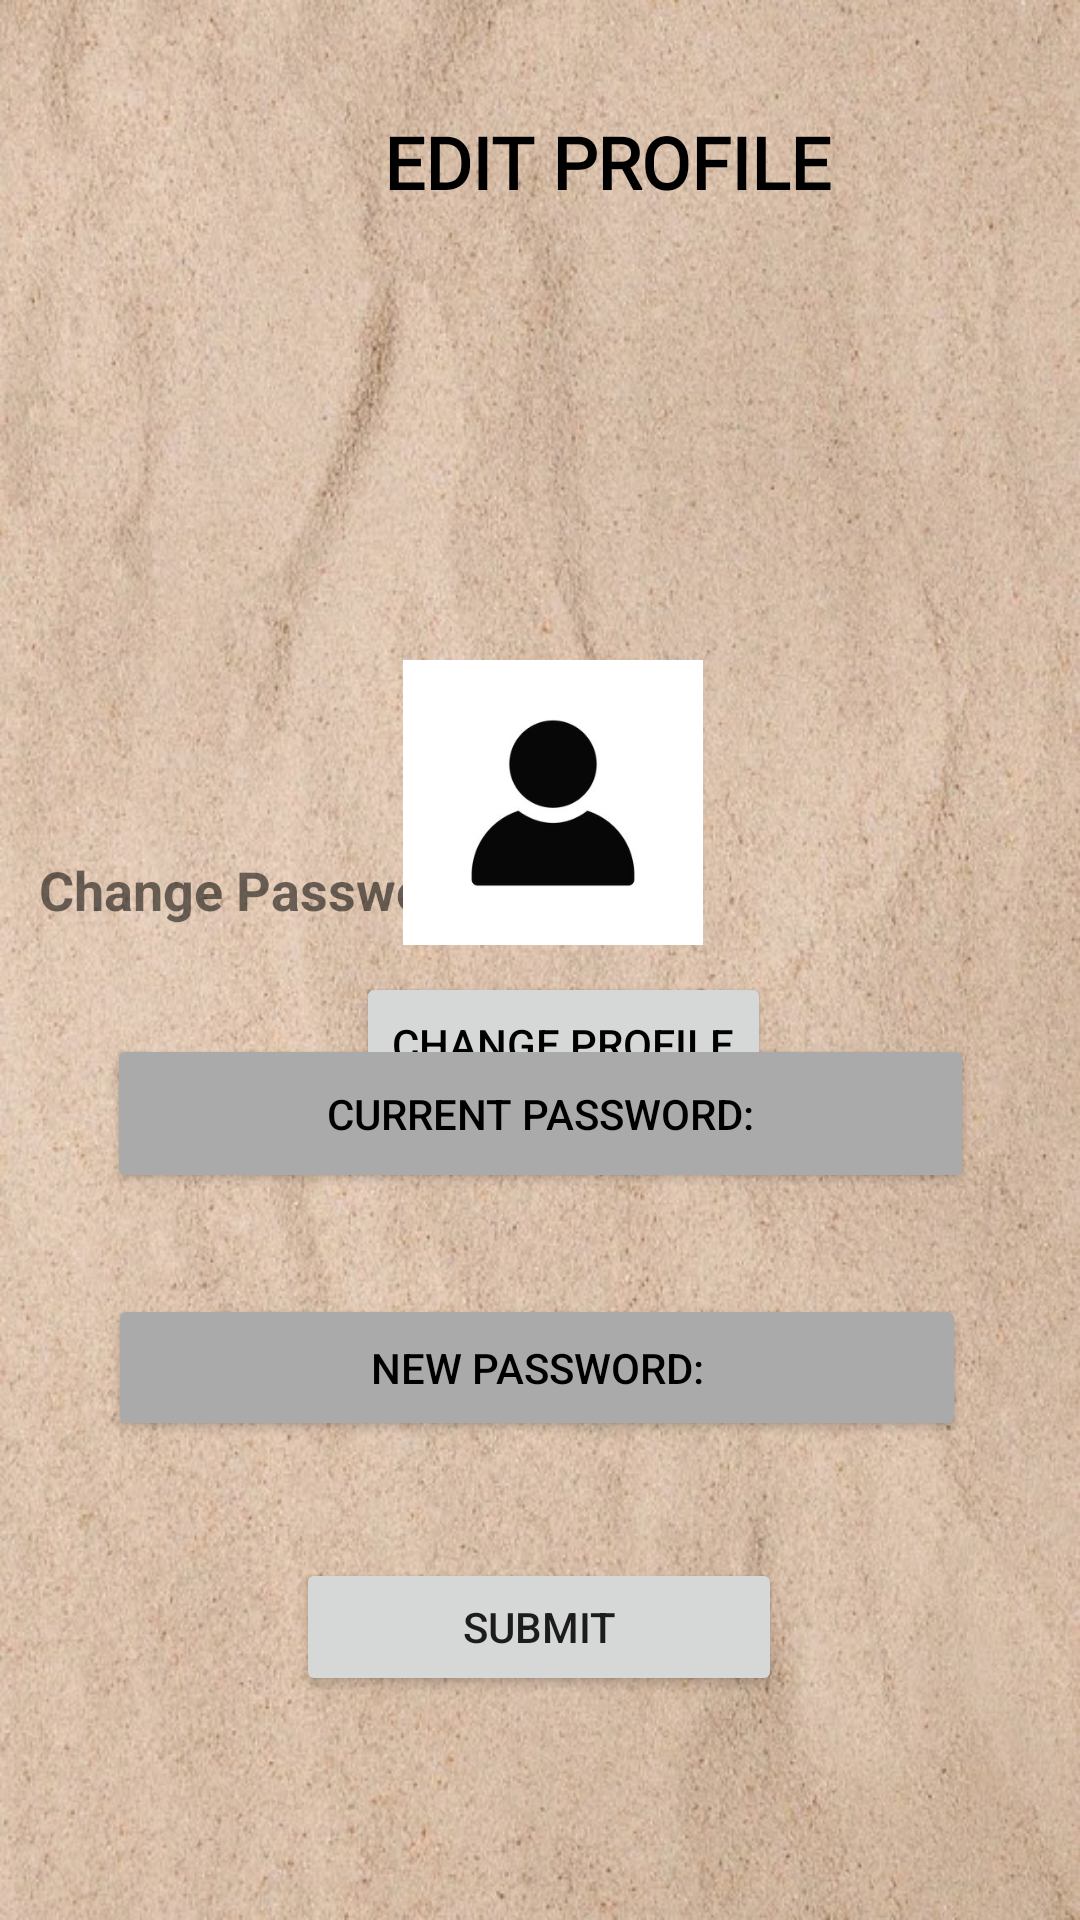

Where icons sit on this 1080×1920 app screen, as (x1, y1, x2, y2):
admin: (403, 660, 703, 945)
